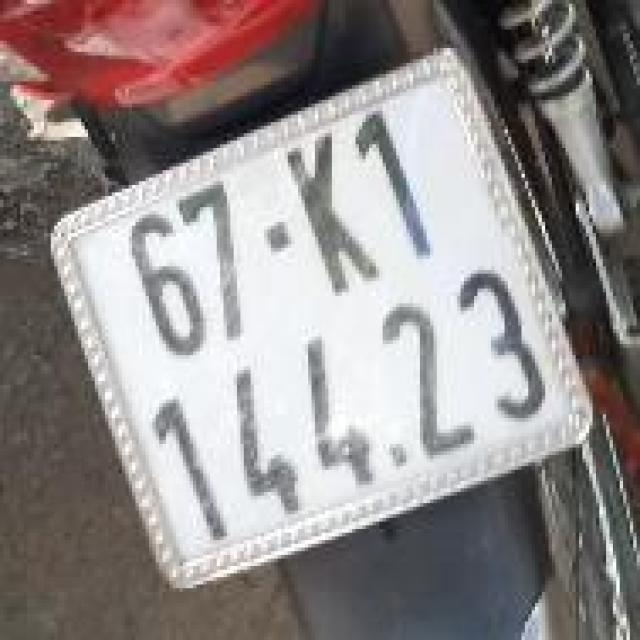1: (139, 379, 247, 555), (339, 99, 450, 270)
2: (362, 282, 487, 470)
3: (442, 255, 561, 435)
4: (281, 315, 386, 504), (212, 347, 316, 527)
6: (113, 194, 218, 366)
7: (168, 167, 262, 349)
K: (273, 122, 392, 308)
